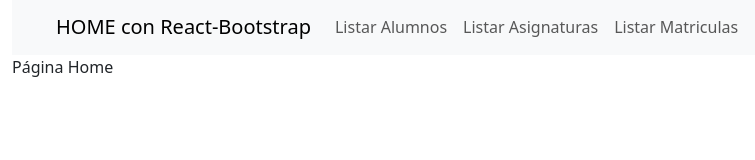
Test case: Menu component › el enlace Listar Asignaturas navega a /asignaturas
Click the link "Listar Asignaturas". click: (531, 27)
box: [463,16,598,38]
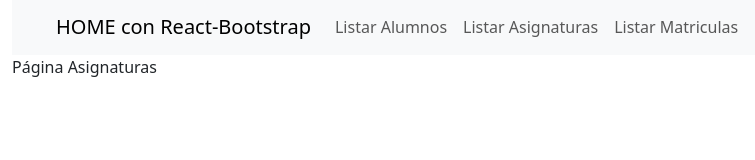
expect the text "Página Asignaturas" is shown: met, box [12,56,157,78]
